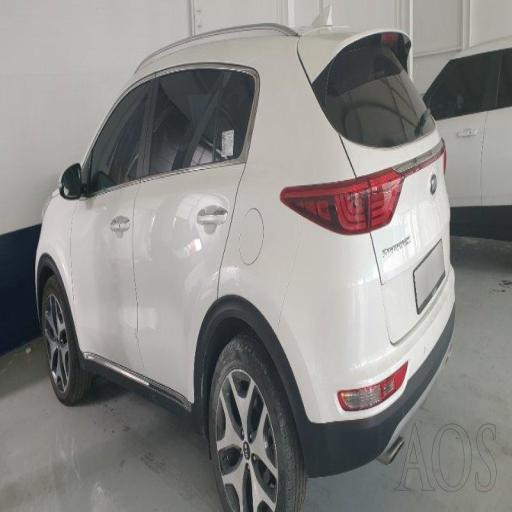dent: (134, 168, 237, 302), (292, 319, 420, 426)
